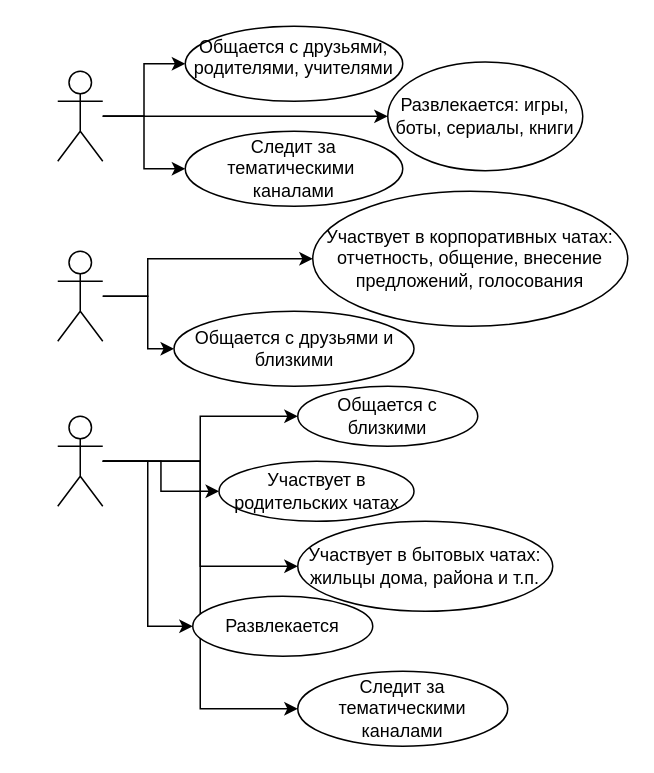
Some shapes in this 654 by 773 pixel diagram are drawn without their labels. Each missing label, with the centre of its shape:
"Домохозяйка" goes at point (79, 460).
"Менеджер" goes at point (79, 295).
"Подросток" goes at point (79, 115).
